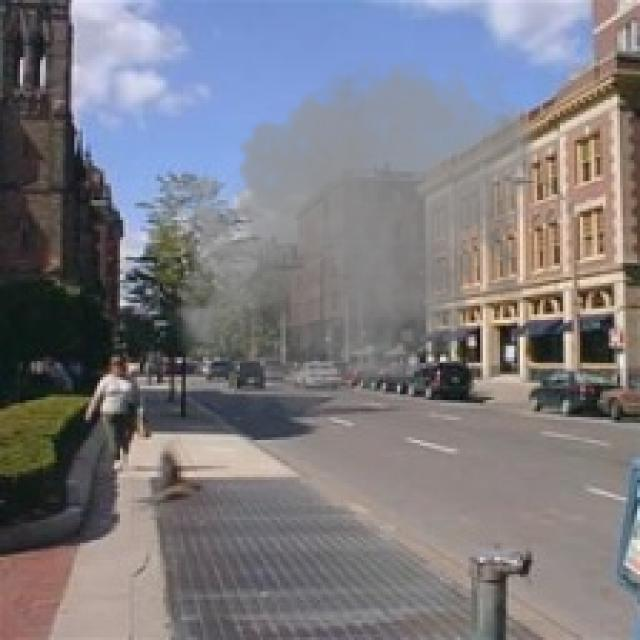Smoke: (163, 49, 543, 438)
